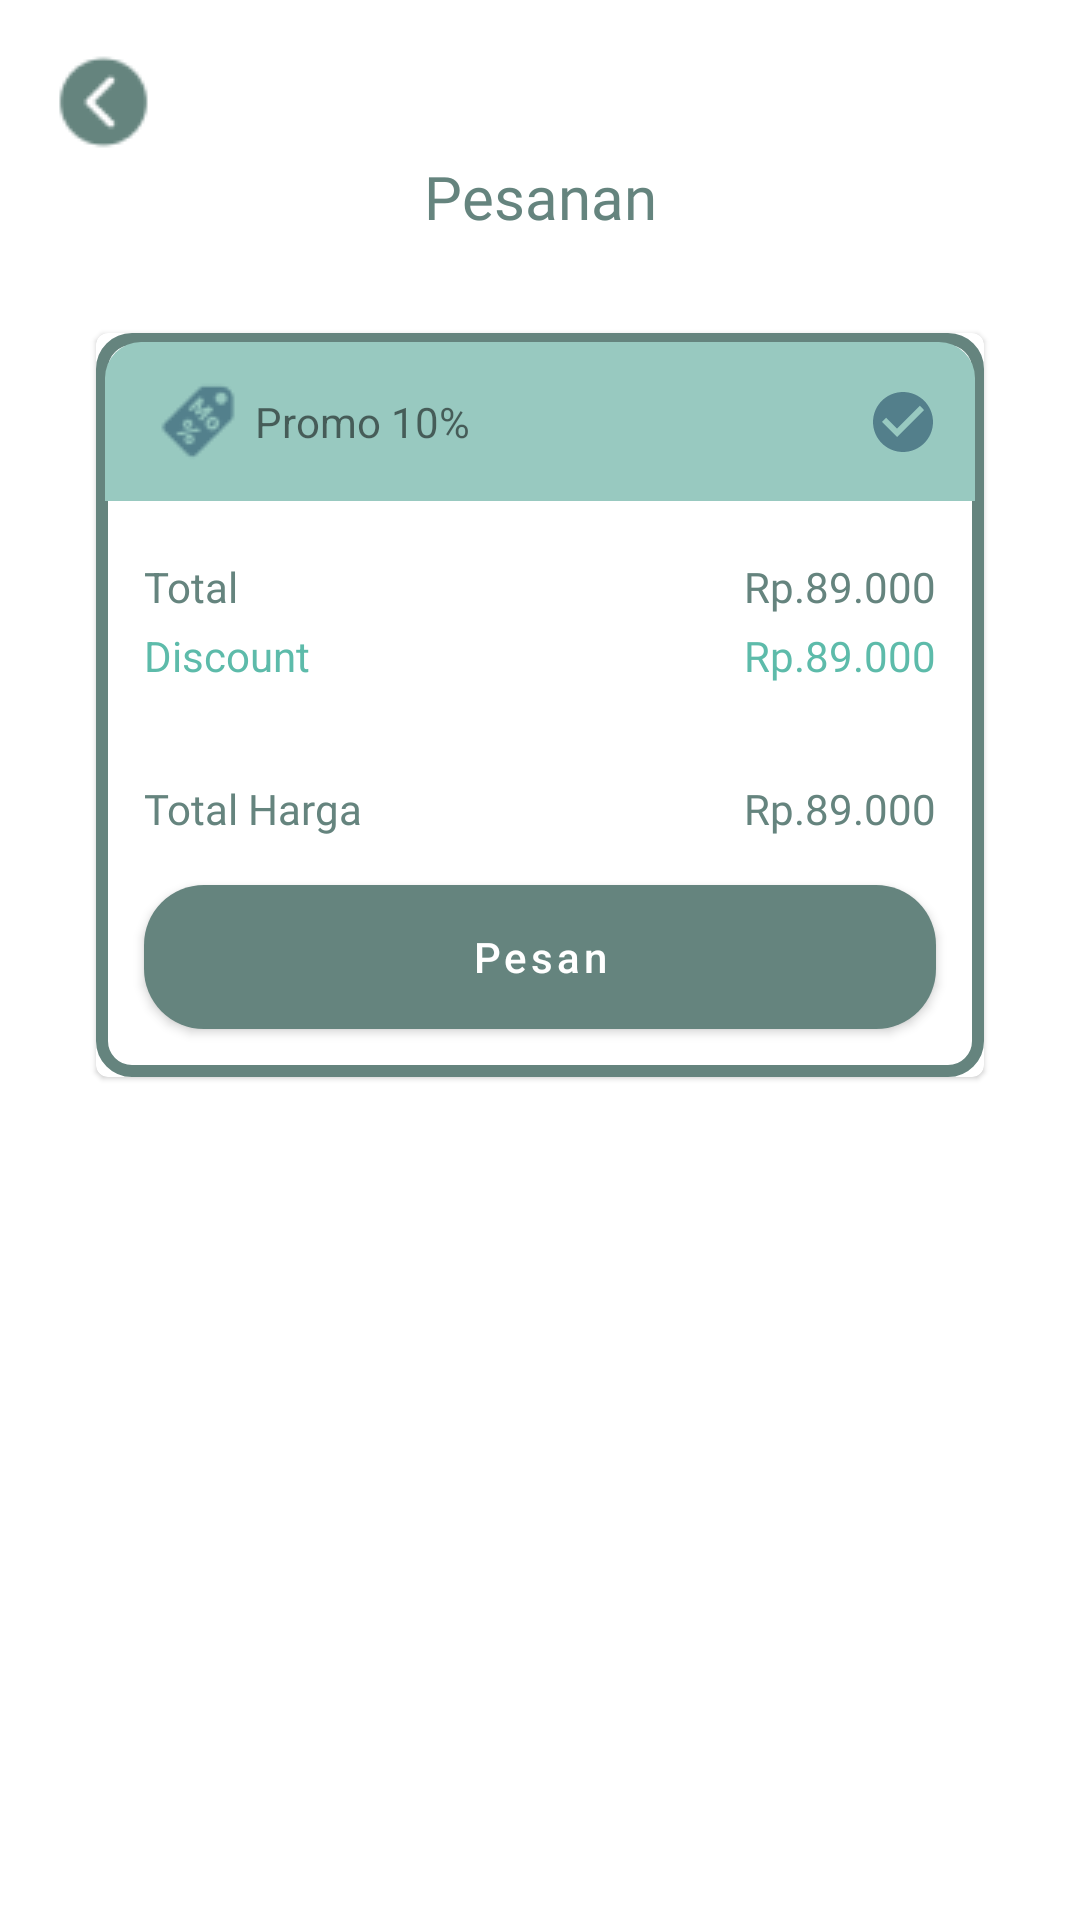

Icons on this 1080px×1920px Android screen, each with its box as (left=x1, top=y1, right=x2, bottom=y2):
back to: (left=59, top=57, right=148, bottom=147)
check circle: (left=873, top=392, right=933, bottom=452)
